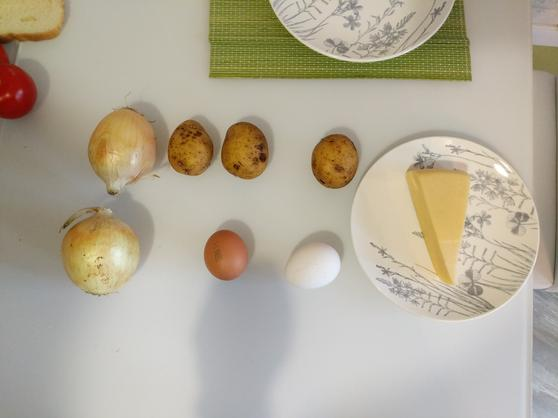cheese: (409, 163, 484, 287)
egg: (286, 236, 344, 288), (203, 229, 251, 287)
onion: (56, 205, 144, 302), (86, 103, 156, 194)
potato: (162, 115, 217, 176), (223, 121, 272, 181), (312, 133, 360, 190)
tomato: (1, 63, 36, 117)
